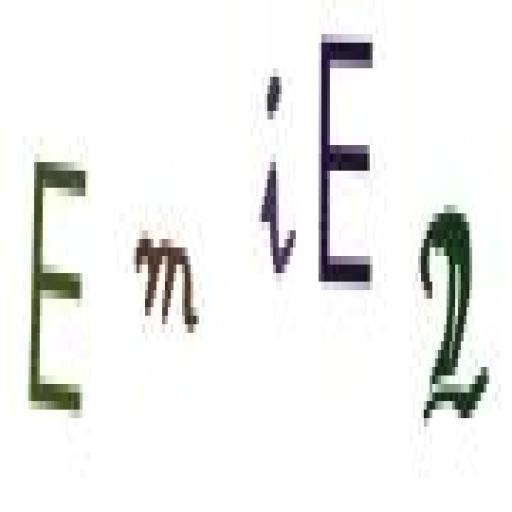2: (414, 198, 496, 435)
E: (26, 145, 90, 430), (316, 23, 380, 306)
i: (254, 66, 302, 296)
m: (130, 219, 202, 345)
